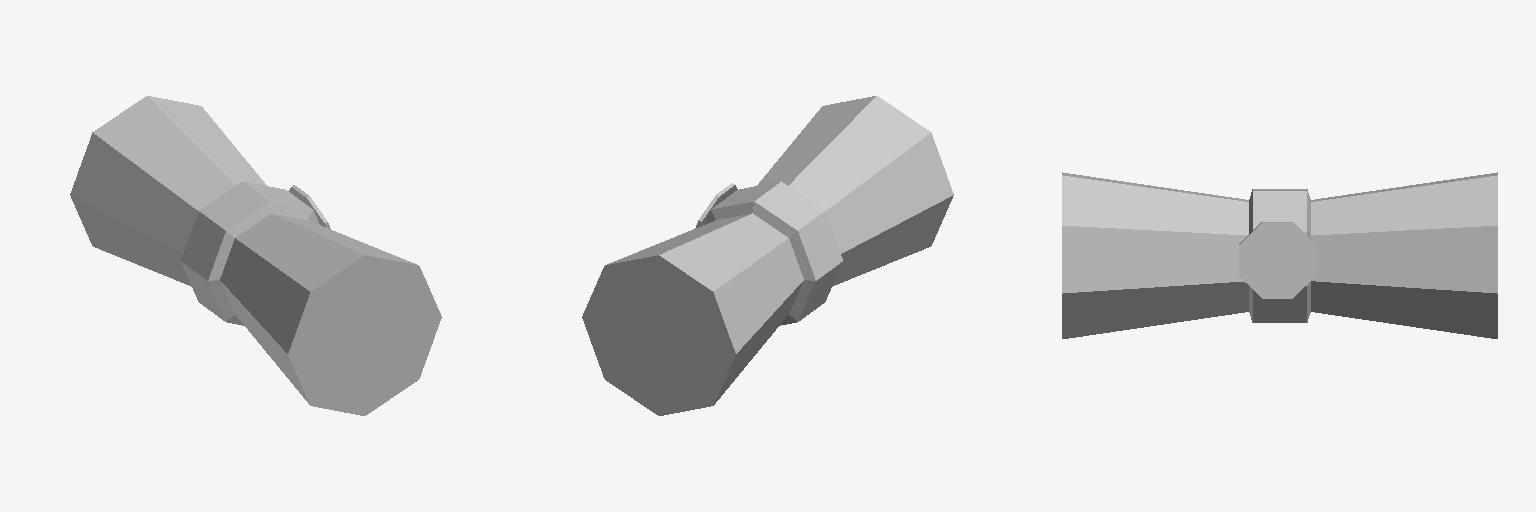
The model's file is misc025.obj.
3 renders of one model, left to right at view 1: azimuth 30°, elevation 25°; view 2: azimuth 150°, elevation 25°; view 3: azimuth 270°, elevation 25°, orthographic.
Visible parts, largest first — view 1: misc025; view 2: misc025; view 3: misc025.
Boxes of the visible parts, x1,y1,x2,y2 form: misc025: [70, 96, 441, 415]; misc025: [582, 96, 953, 415]; misc025: [1062, 172, 1497, 338].
Size of the model in its own units: 0.0035 by 0.0035 by 0.0086.